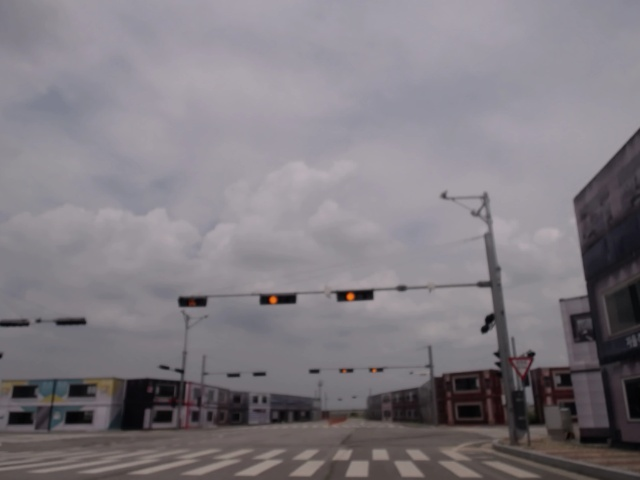orange_4: (336, 288, 375, 303), (259, 292, 299, 306), (337, 368, 357, 375), (367, 368, 386, 374)
